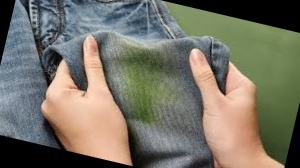earth: (119, 47, 170, 117)
